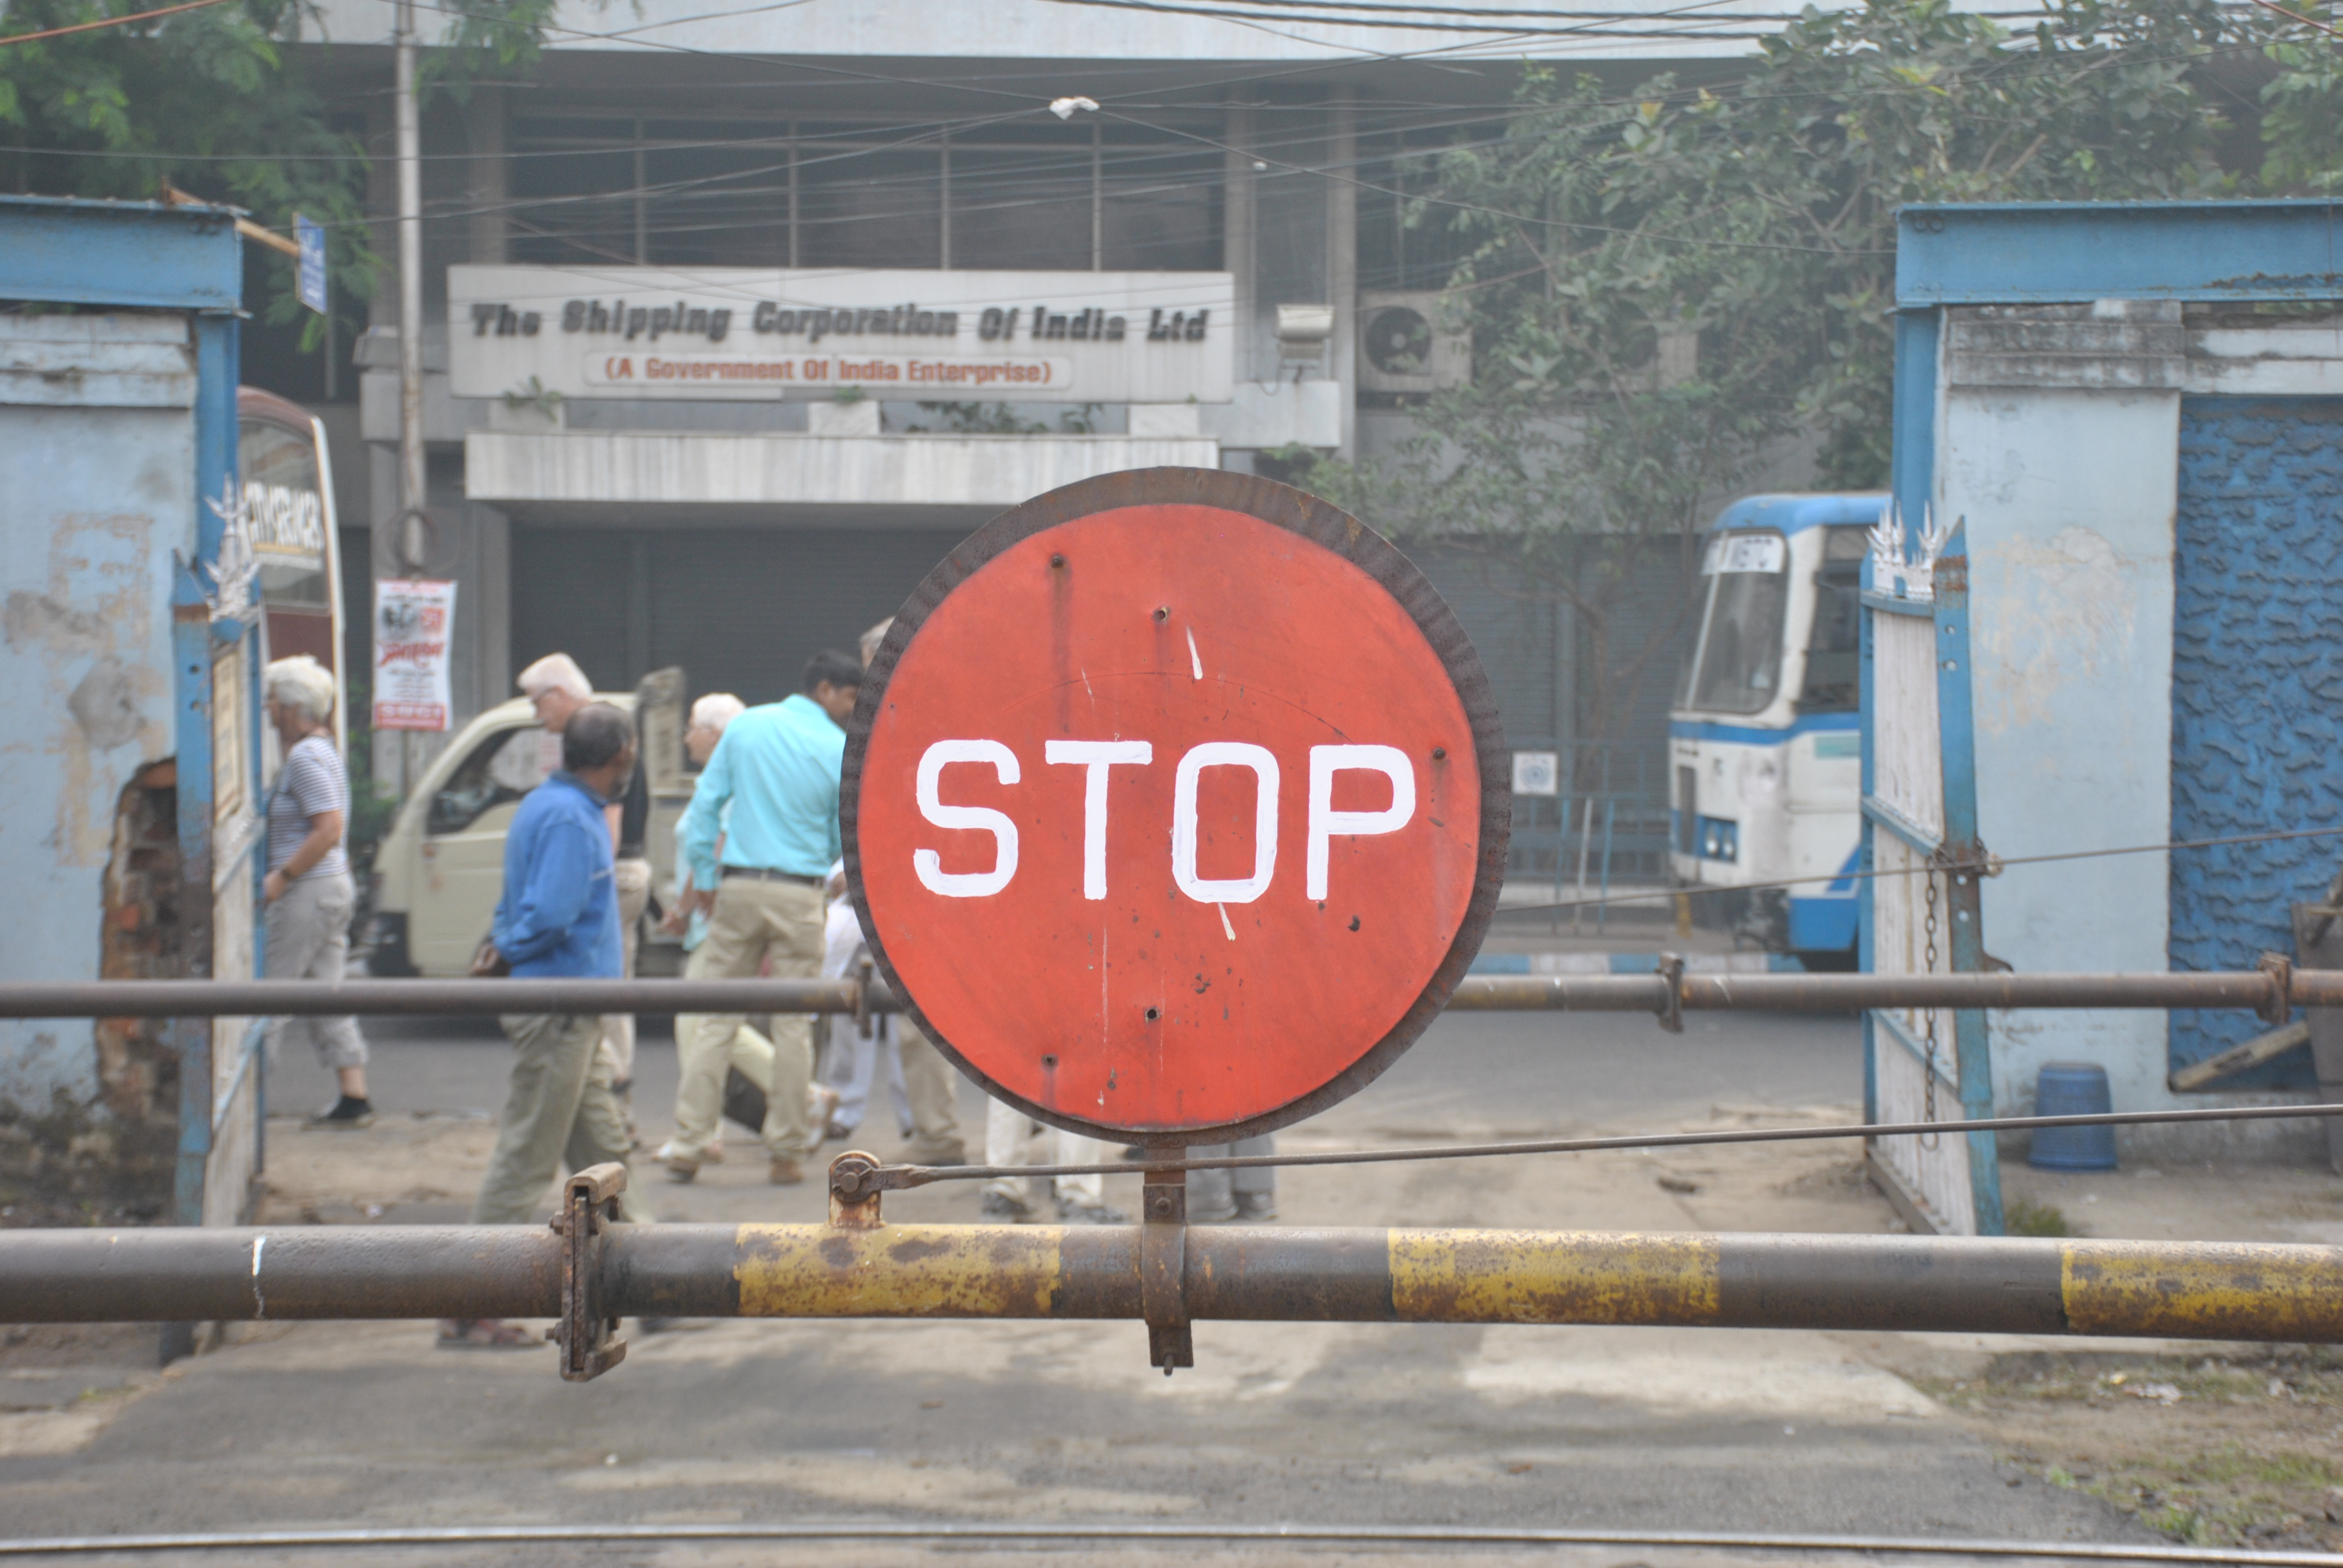bus: (1664, 483, 1862, 947)
stop: (901, 542, 1465, 1122)
